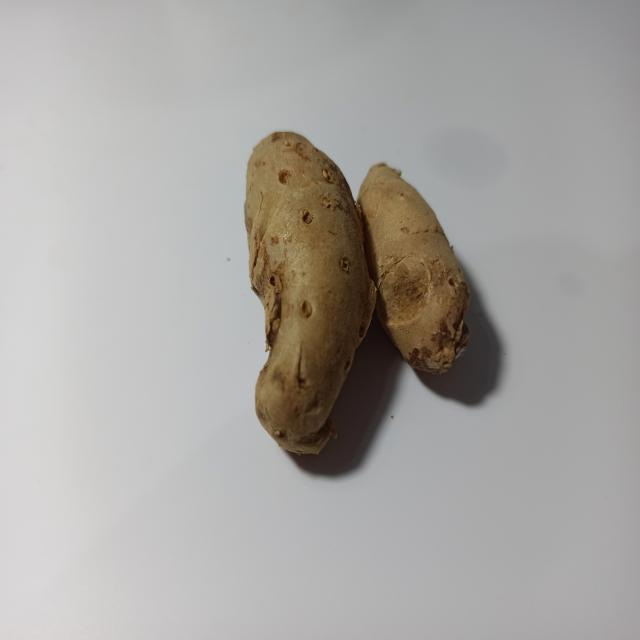ginger: (251, 130, 461, 440)
